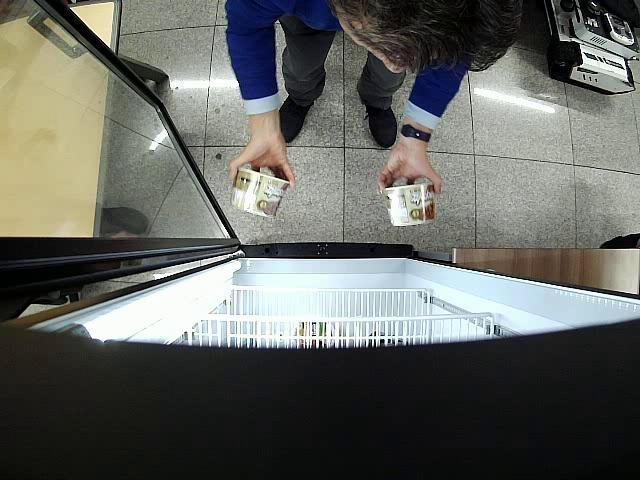03_chapagetti_L: (230, 167, 290, 218), (383, 184, 435, 226)
